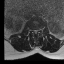CCS_normal: (34, 28, 36, 35)
LFS_severe_stenosis: (38, 27, 40, 33)
LLS_normal: (36, 28, 38, 33)
RFS_severe_stenosis: (31, 27, 33, 32)
RLS_normal: (33, 28, 34, 33)
